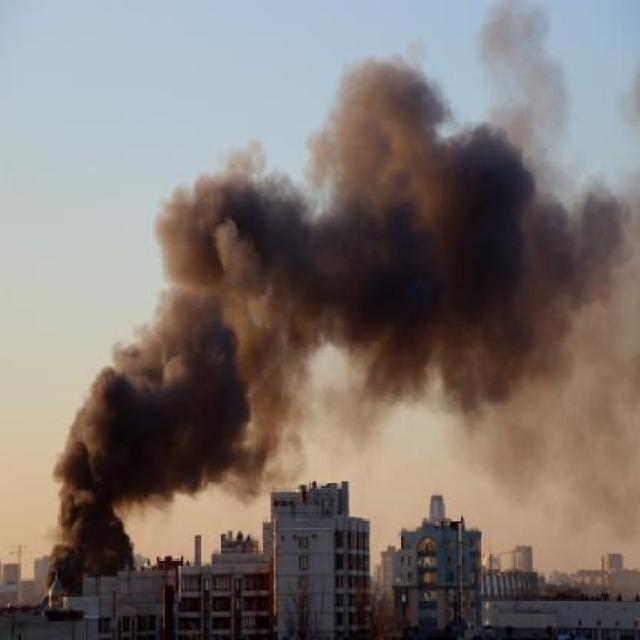Smoke: (49, 0, 640, 585)
